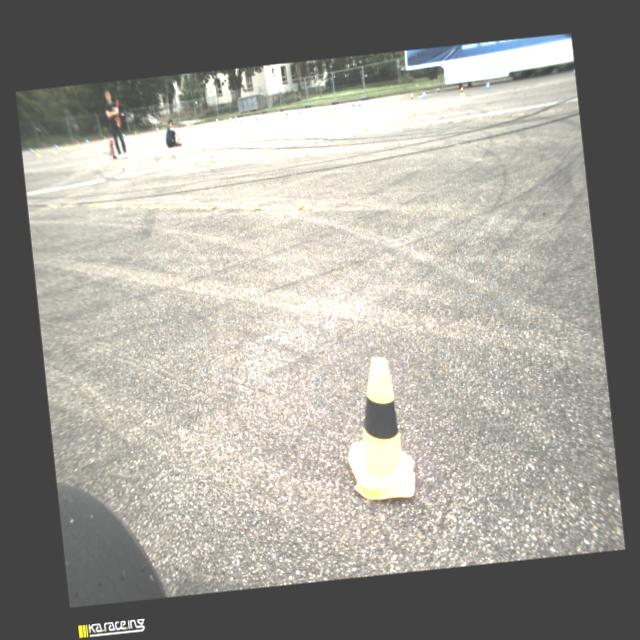blue_cone: (356, 99, 362, 106), (421, 90, 426, 98), (28, 148, 34, 154), (486, 81, 490, 89), (298, 108, 302, 114), (254, 114, 258, 120), (572, 68, 575, 76), (228, 116, 232, 122), (54, 144, 58, 150), (235, 115, 238, 122), (85, 138, 89, 143), (238, 116, 241, 122), (122, 132, 125, 138), (155, 127, 158, 132), (216, 116, 218, 122)
yellow_cone: (338, 355, 416, 502), (458, 86, 464, 97), (408, 93, 414, 103), (350, 101, 356, 110), (284, 110, 290, 118), (64, 142, 70, 150), (223, 120, 228, 128), (51, 146, 56, 154), (36, 148, 41, 156), (196, 123, 200, 131), (134, 130, 138, 138), (75, 140, 80, 146), (187, 125, 191, 132), (103, 135, 107, 142), (190, 122, 193, 130), (162, 126, 164, 133), (186, 122, 188, 129)
